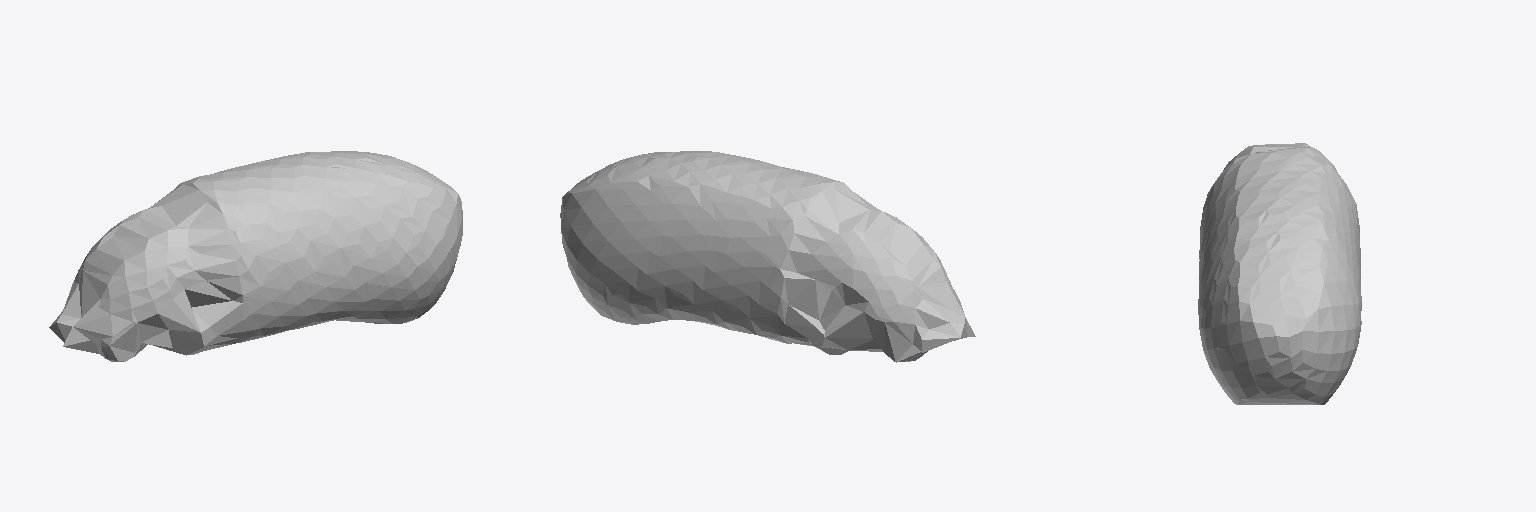
File: sim_ecub_1-0_r_hand_thumb_3.obj
The picture shows the model from 3 angles: view 1: azimuth 30°, elevation 25°; view 2: azimuth 150°, elevation 25°; view 3: azimuth 270°, elevation 25°; orthographic projection.
Bounding box in the file's own units: 49.08 × 18.83 × 17.36.